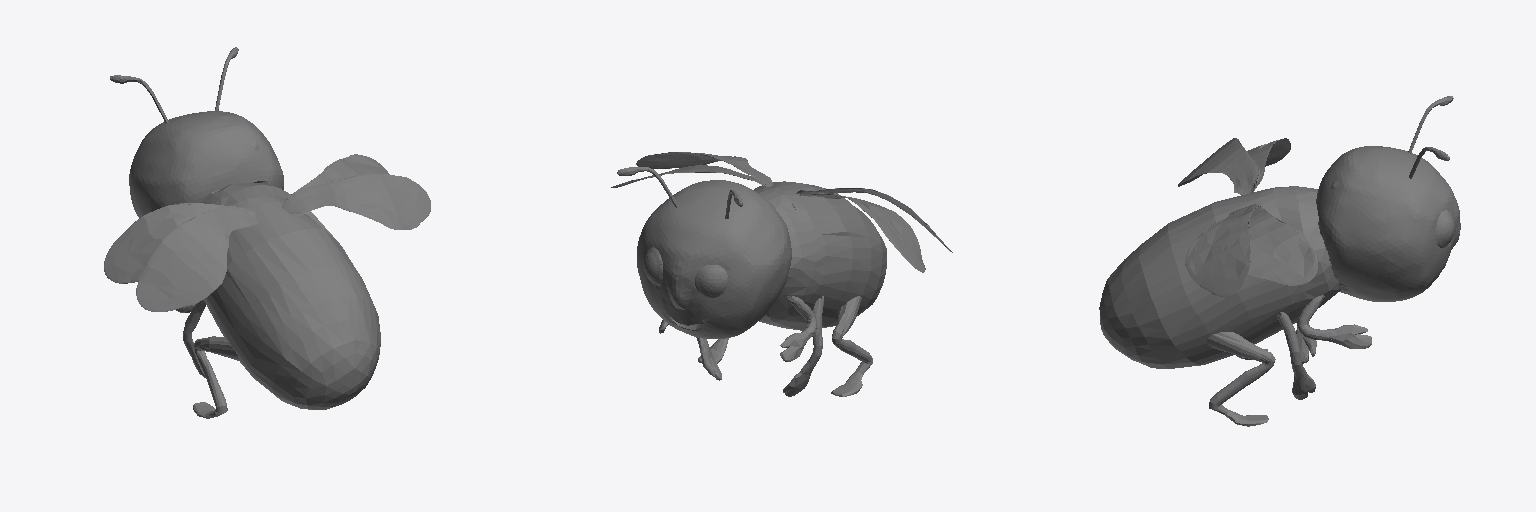
The model's file is Bee_000009.obj.
The picture shows the model from 3 angles: view 1: azimuth 30°, elevation 25°; view 2: azimuth 150°, elevation 25°; view 3: azimuth 270°, elevation 25°; orthographic projection.
Bounding box in the file's own units: 0.3281 × 0.2743 × 0.3376.